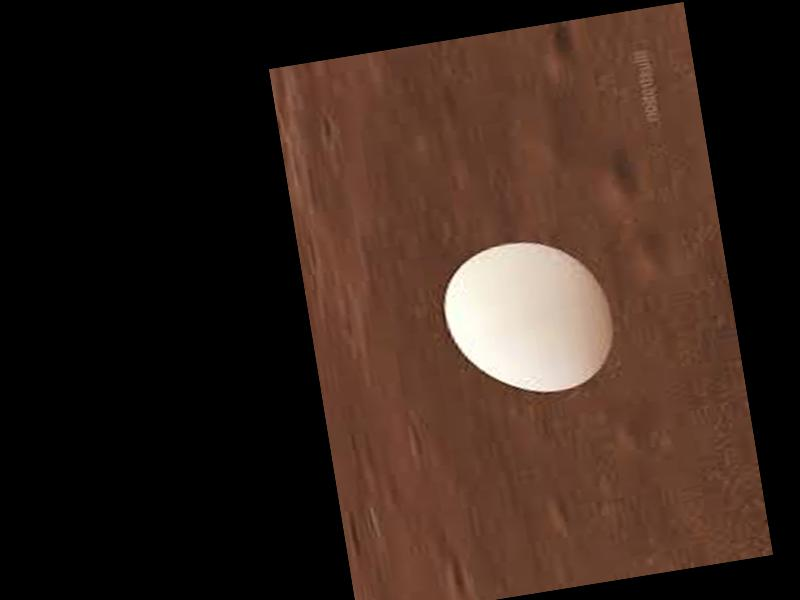Eggs: (436, 228, 621, 408)
